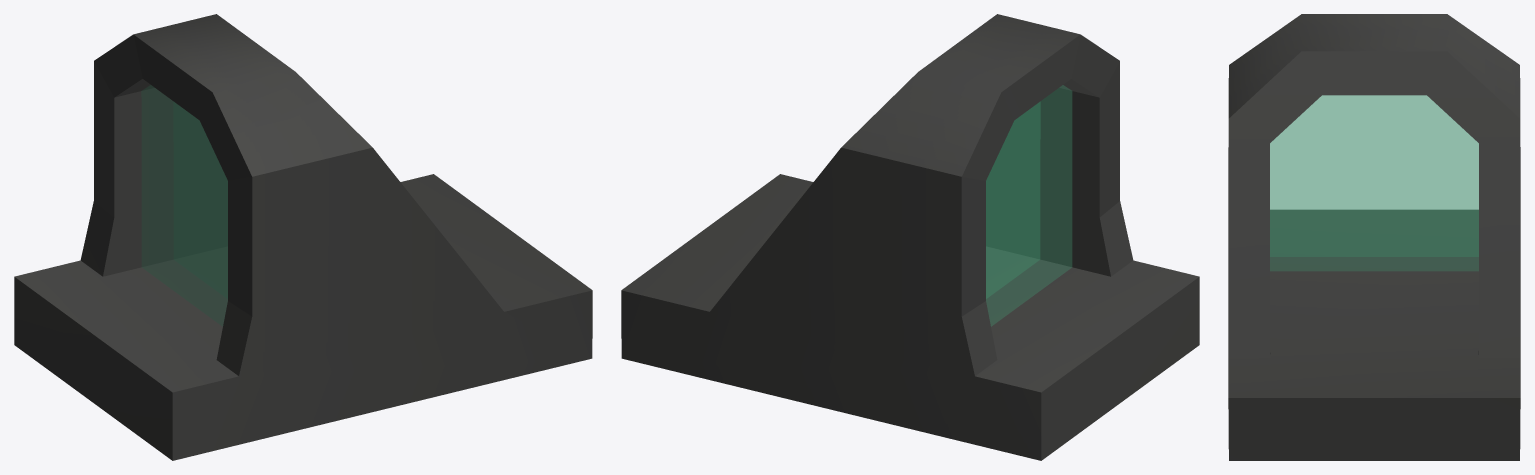
File: ReflexB_mesh.fbx
3 views of the same model, side by side, from view 1: azimuth 30°, elevation 25°; view 2: azimuth 150°, elevation 25°; view 3: azimuth 270°, elevation 25° (orthographic). The views are drawn at different scales.
Parts seen in each view (by area): view 1: ReflexB_mesh; view 2: ReflexB_mesh; view 3: ReflexB_mesh.
Boxes of the visible parts, x1,y1,x2,y2 form: ReflexB_mesh: (14,14,592,460); ReflexB_mesh: (621,14,1199,460); ReflexB_mesh: (1228,14,1520,460).
Bounding box in the file's own units: 5.88 × 4.29 × 3.86.
2 materials, 1 textured.
